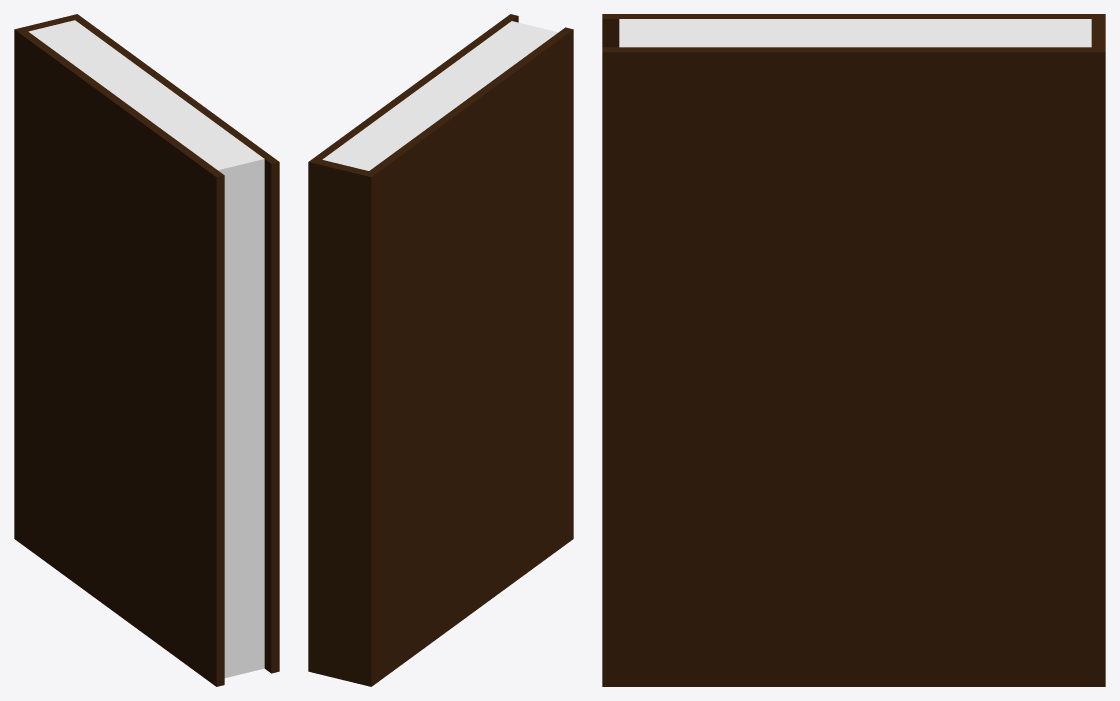
The model's file is Libro.FBX.
3 renders of one model, left to right at view 1: azimuth 30°, elevation 25°; view 2: azimuth 150°, elevation 25°; view 3: azimuth 270°, elevation 25°, orthographic. The views are drawn at different scales.
Parts seen in each view (by area): view 1: Libro; view 2: Libro; view 3: Libro.
Part boxes in pixels (x1,y1,x2,y2): Libro: (14,14,279,686); Libro: (308,14,573,686); Libro: (602,14,1105,686).
Bounding box in the file's own units: 0.1076 × 0.8318 × 0.5979.
